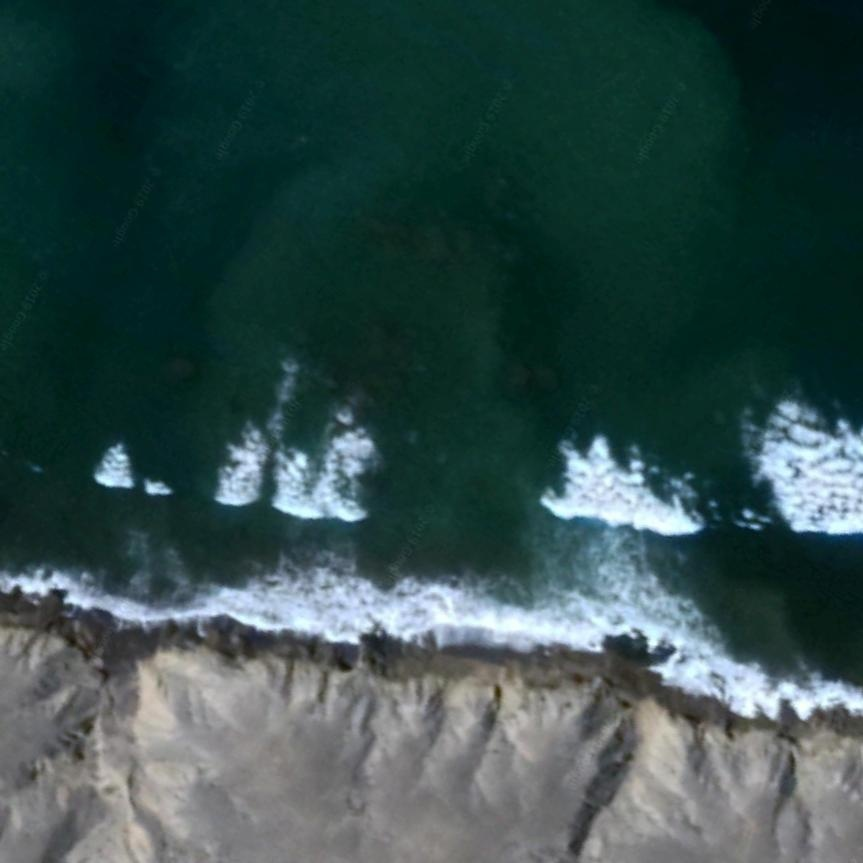rip_current: (326, 361, 577, 595)
